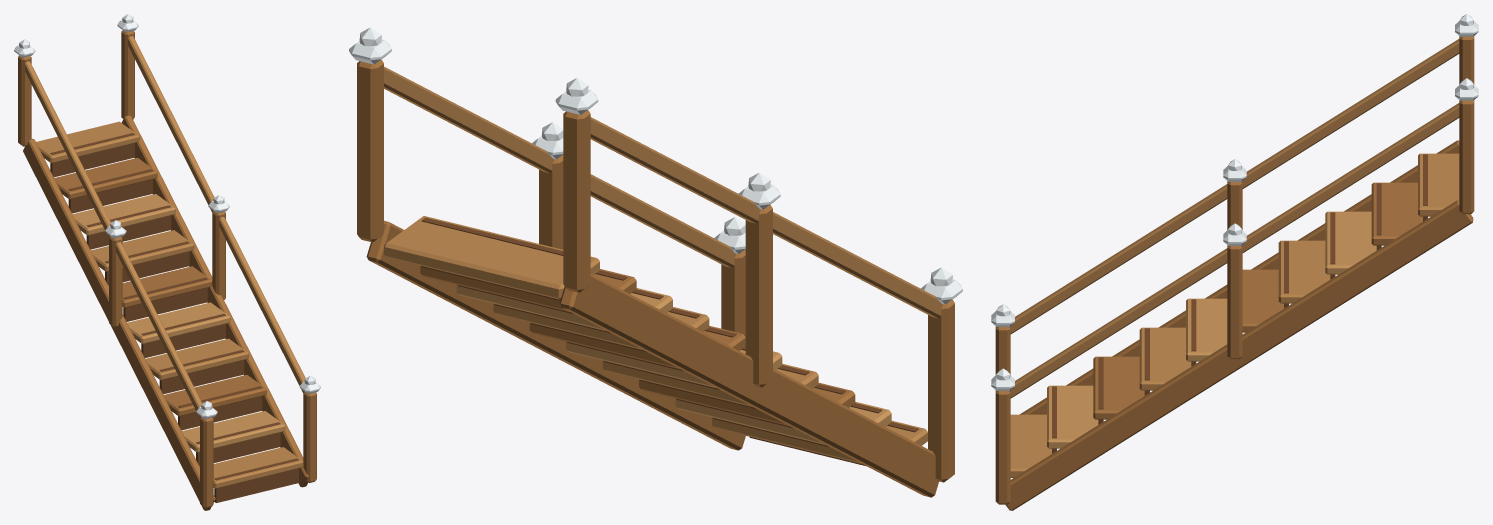
Rendered from mod_stairs_2m.glb.
The picture shows the model from 3 angles, left to right: view 1: azimuth 30°, elevation 25°; view 2: azimuth 150°, elevation 25°; view 3: azimuth 270°, elevation 25°; orthographic projection. The views are drawn at different scales.
Visible parts, largest first — view 1: mod_stairs_2m; view 2: mod_stairs_2m; view 3: mod_stairs_2m.
Boxes of the visible parts, x1,y1,x2,y2 form: mod_stairs_2m: (14,14,320,510); mod_stairs_2m: (349,27,962,497); mod_stairs_2m: (991,14,1478,510).
Size of the model in its own units: 1.04 by 2.84 by 2.89.
